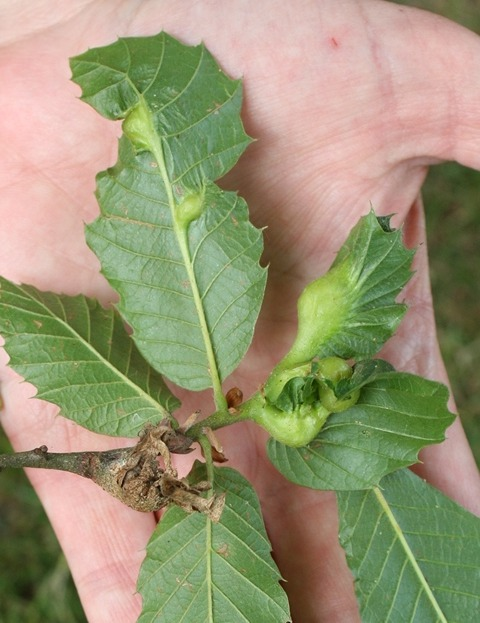galarisi: (86, 357, 342, 525)
